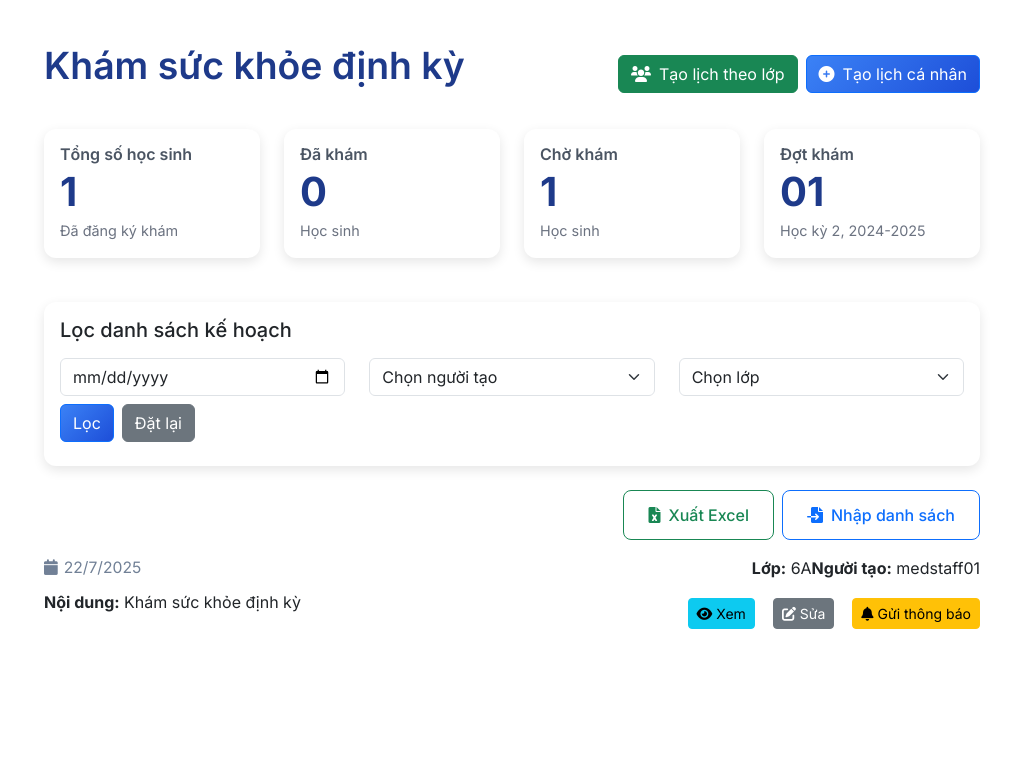
Test: HealthCheckManagement Main Flow › shows error when failing to load student list in modal
The image size is (1024, 768).
Mở modal chi tiết kế hoạch
Click the button with test id "view-detail-btn-plan1" at (721,613), box x1=688 y1=598 x2=755 y2=629
(page scrolled)
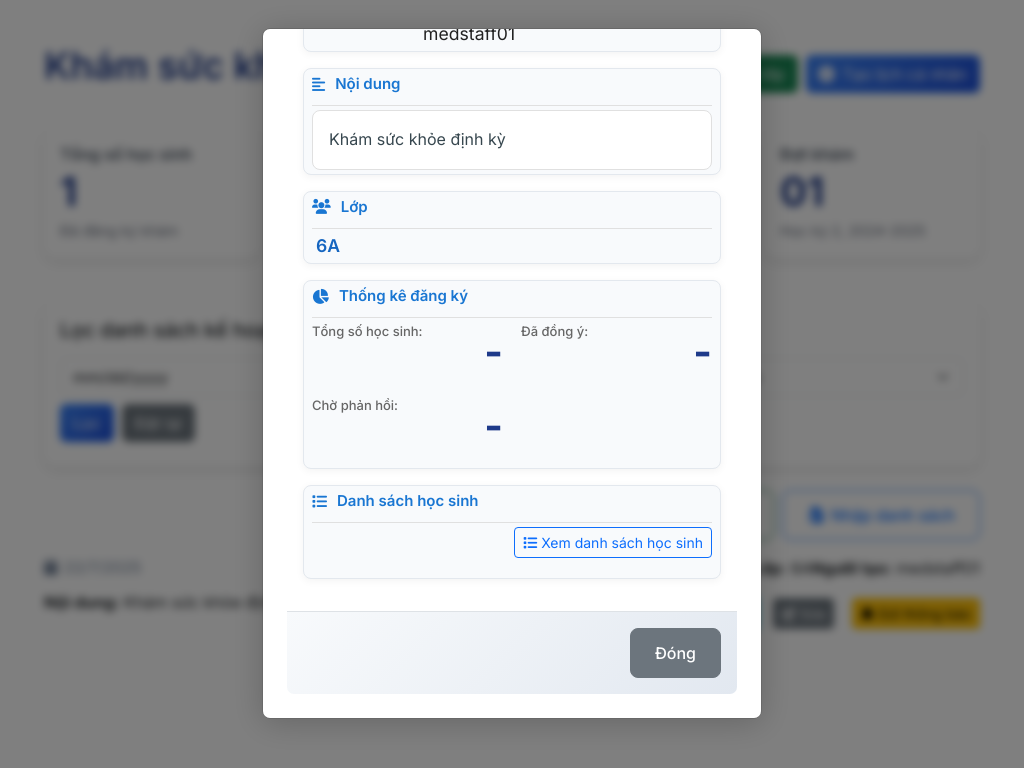
Mở modal danh sách học sinh
Click the button with test id "view-student-list-btn" at (613,543), box x1=514 y1=527 x2=712 y2=558
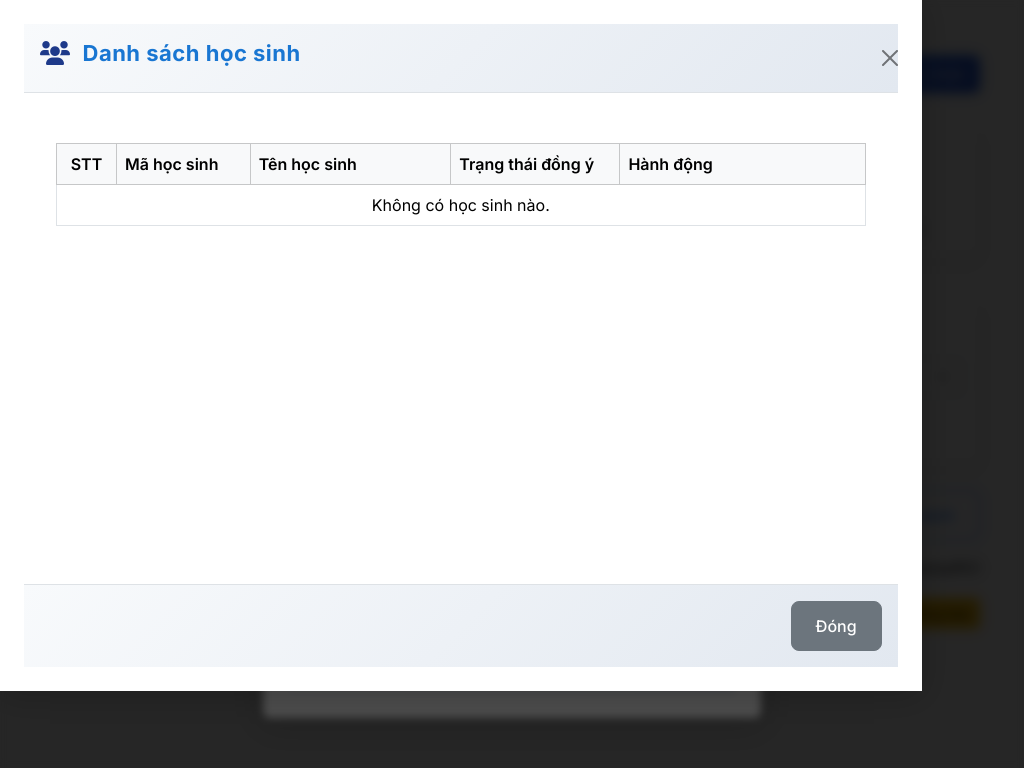
Check: the text "Không có học sinh nào." is shown, box x1=56 y1=185 x2=865 y2=226
